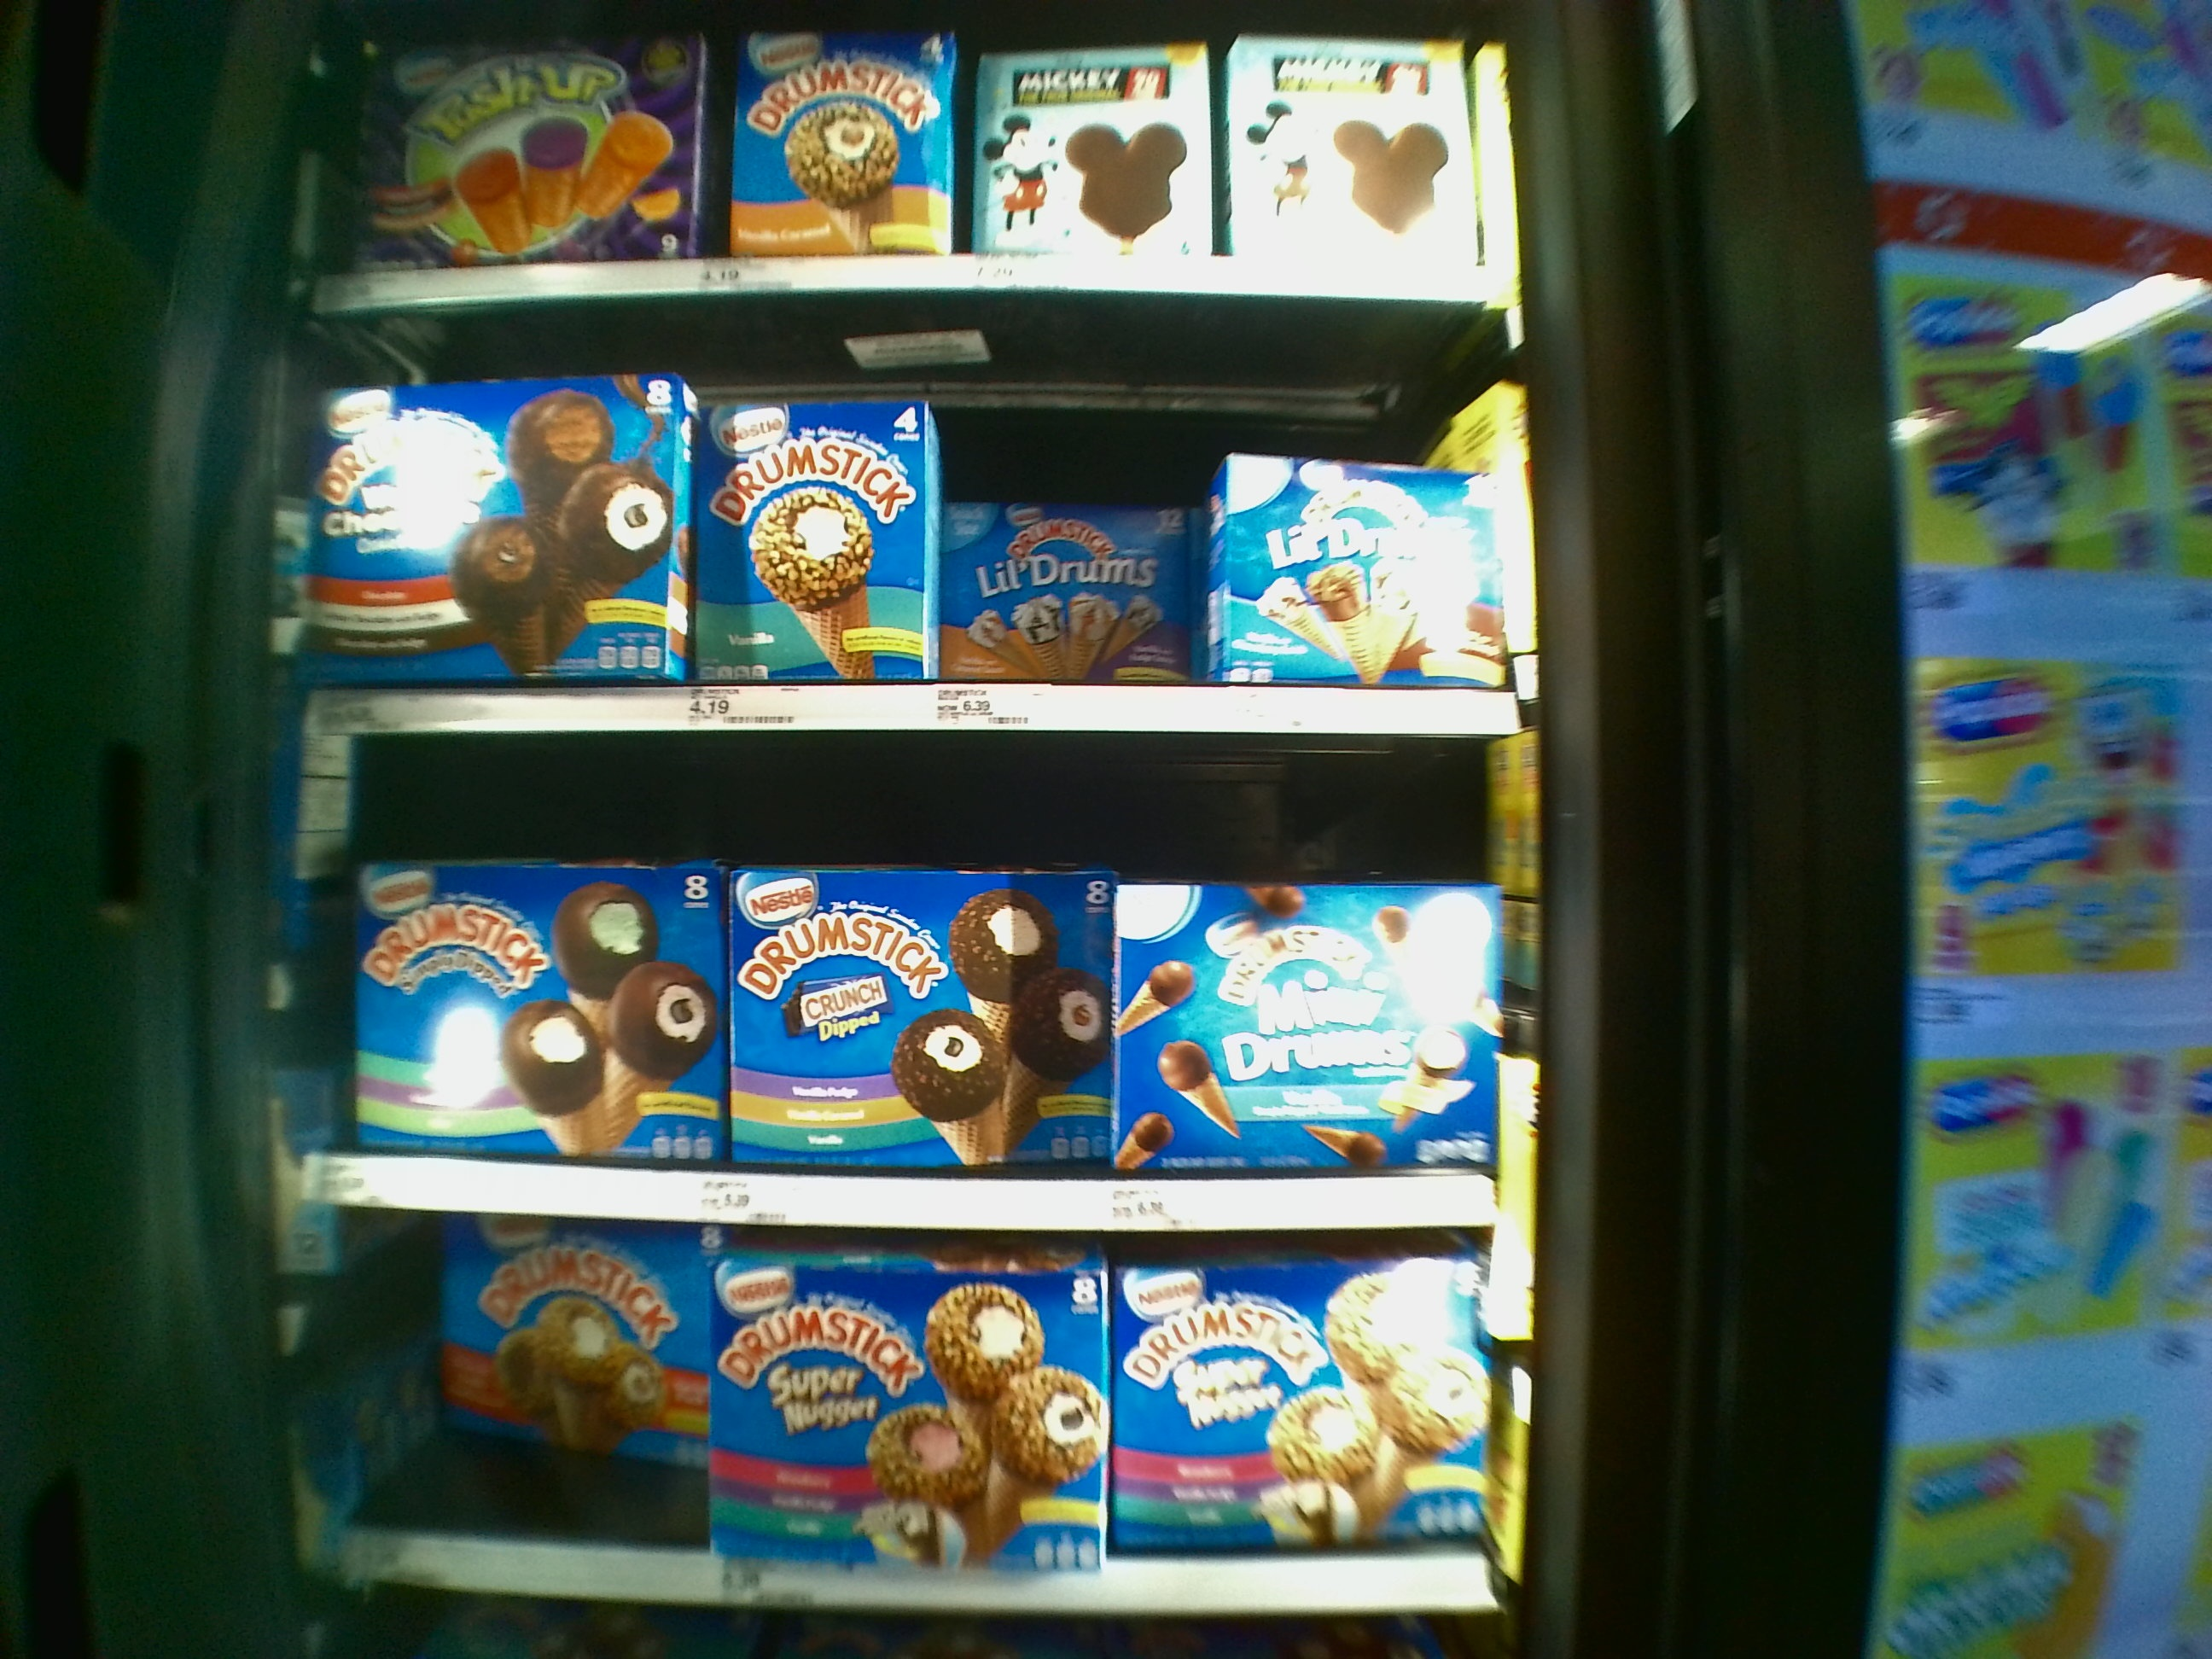shelf: (301, 737, 1540, 1241), (308, 305, 1527, 739), (307, 1211, 1521, 1642), (307, 2, 1508, 301)
